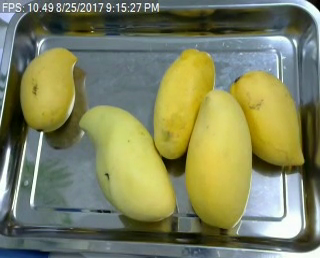Mango: (76, 103, 176, 223), (183, 90, 249, 229), (228, 67, 309, 172), (154, 48, 216, 158), (17, 43, 75, 135)
